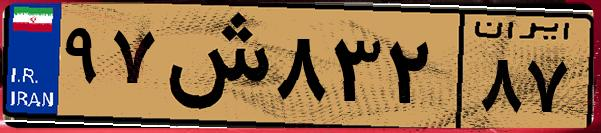2: (385, 28, 445, 110)
3: (330, 28, 385, 110)
7: (525, 38, 570, 115), (110, 28, 158, 98)
8: (270, 28, 330, 110), (475, 38, 525, 113)
9: (57, 26, 110, 100)
ش: (158, 12, 270, 120)
